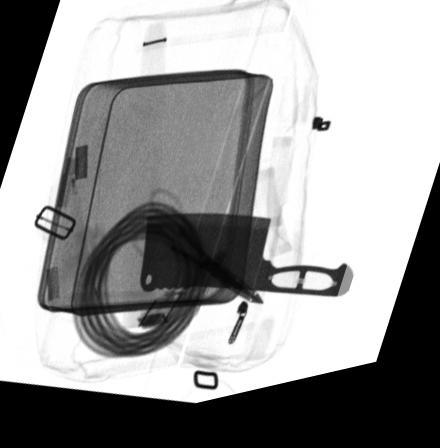Knife: (139, 221, 355, 311)
Scissors: (132, 196, 262, 315)
